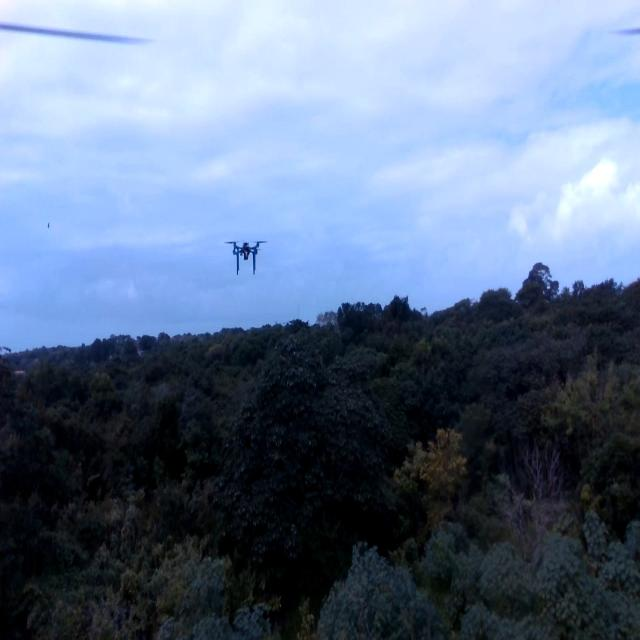-uav-: (222, 228, 273, 288)
